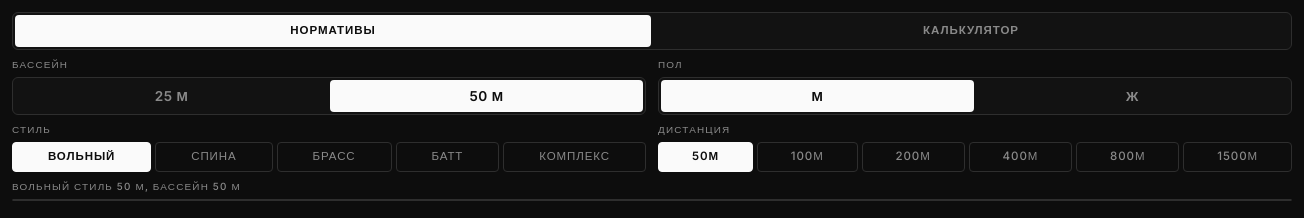
standards index page › switches the stroke and keeps the distance when the stroke has it
Click the radio button labelled "Брасс": (334, 157) [276,142,392,172]
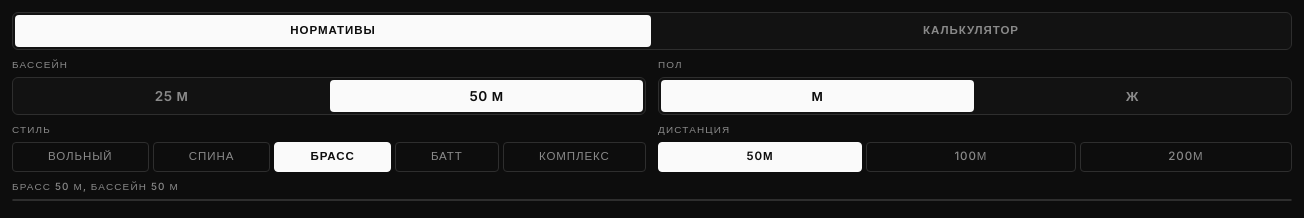
Expected: the heading reads "Брасс 50 м, бассейн 50 м", [12,180,179,192]
